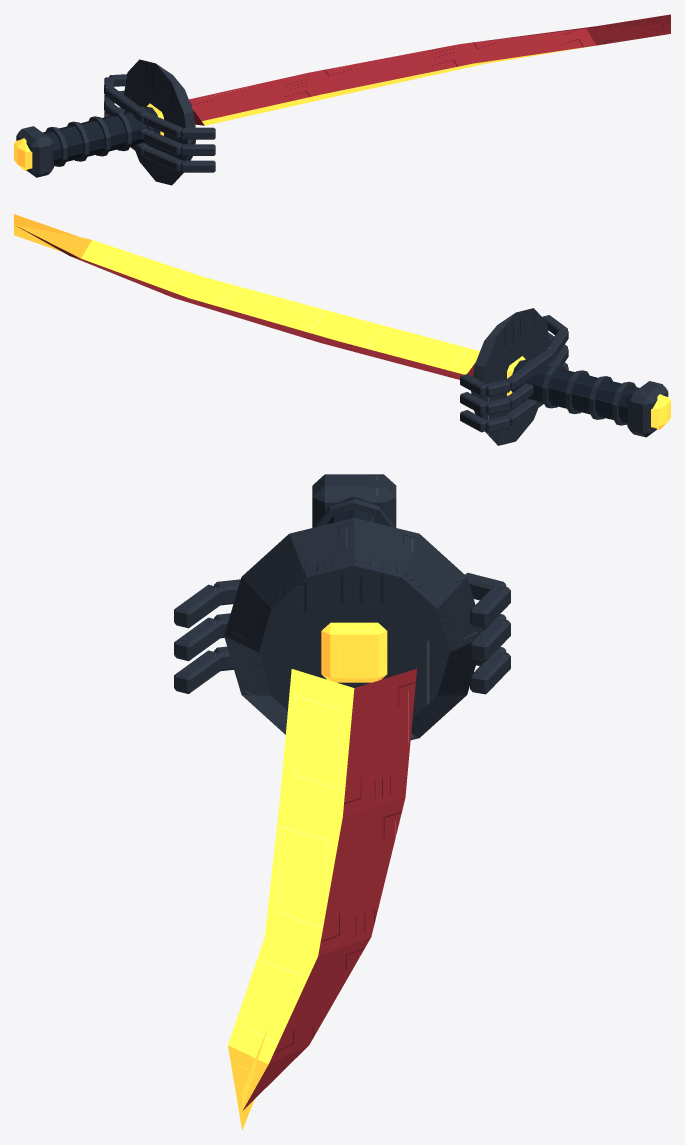
File: flamesabre.glb
The picture shows the model from 3 angles, top to bottom: view 1: azimuth 30°, elevation 25°; view 2: azimuth 150°, elevation 25°; view 3: azimuth 270°, elevation 25°; orthographic projection. The views are drawn at different scales.
Visible parts, largest first — view 1: blade, guard, grip; view 2: blade, guard, grip; view 3: guard, blade, grip.
Boxes of the visible parts, box(x1,y1,x2,y2) form: blade: box(189, 14, 670, 125); guard: box(104, 59, 215, 185); grip: box(14, 106, 160, 177); blade: box(14, 214, 479, 379); guard: box(460, 308, 568, 445); grip: box(511, 359, 670, 437); guard: box(174, 518, 510, 739); blade: box(228, 669, 416, 1130); grip: box(312, 474, 396, 527).
Bounding box in the file's own units: 0.8755 × 0.158 × 0.2042.
4 materials, 4 textured.
